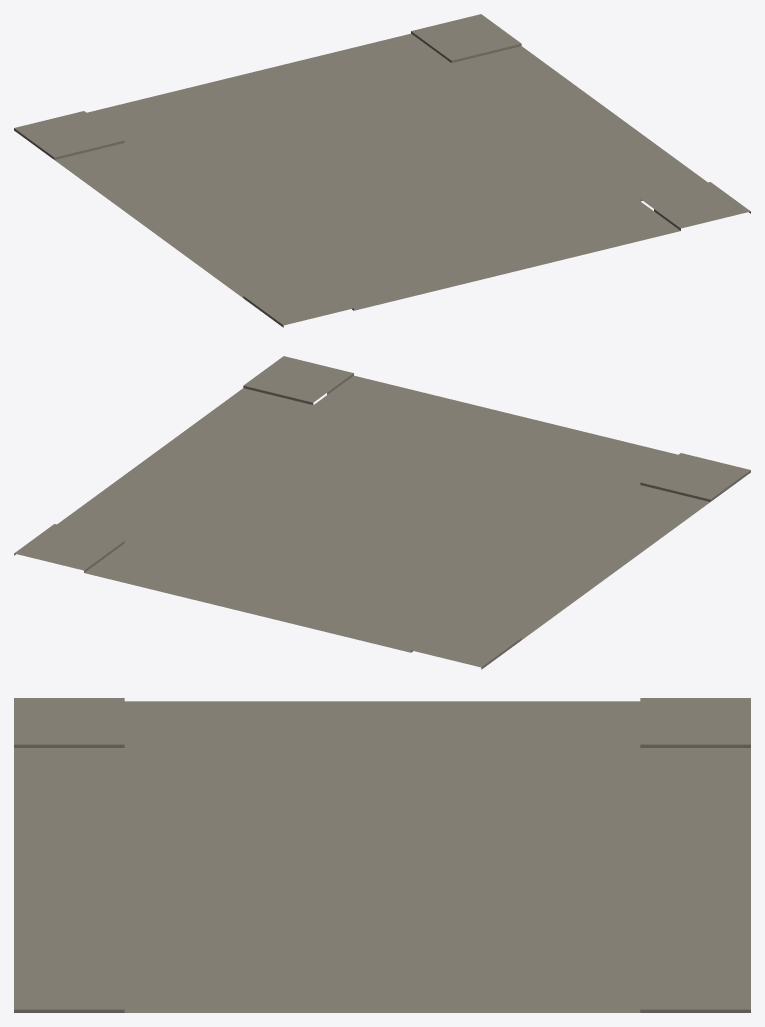
Rendered from Cross.fbx.
3 views of the same model, one above another, from view 1: azimuth 30°, elevation 25°; view 2: azimuth 150°, elevation 25°; view 3: azimuth 270°, elevation 25° (orthographic). The views are drawn at different scales.
Visible parts, largest first — view 1: T-Cross; view 2: T-Cross; view 3: T-Cross.
Boxes of the visible parts, bbox=[...] form: T-Cross: bbox=[14, 14, 750, 327]; T-Cross: bbox=[14, 356, 750, 669]; T-Cross: bbox=[14, 698, 750, 1012].
Size of the model in its own units: 20 by 0.1 by 20.
